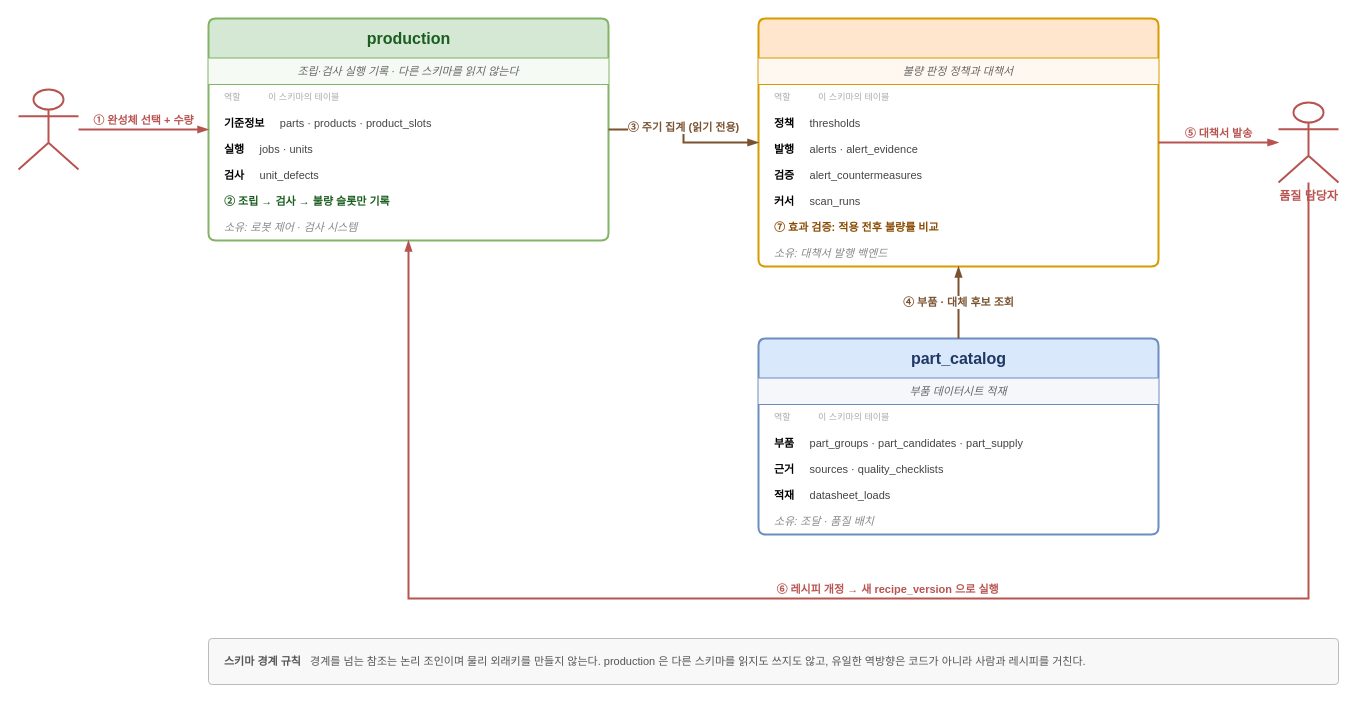
Some shapes in this 1356 by 702 pixel diagram are drawn without their labels. Each missing label, with the box of its shape:
defect_report: (757, 17, 1159, 267)
사용자: (17, 88, 79, 170)
